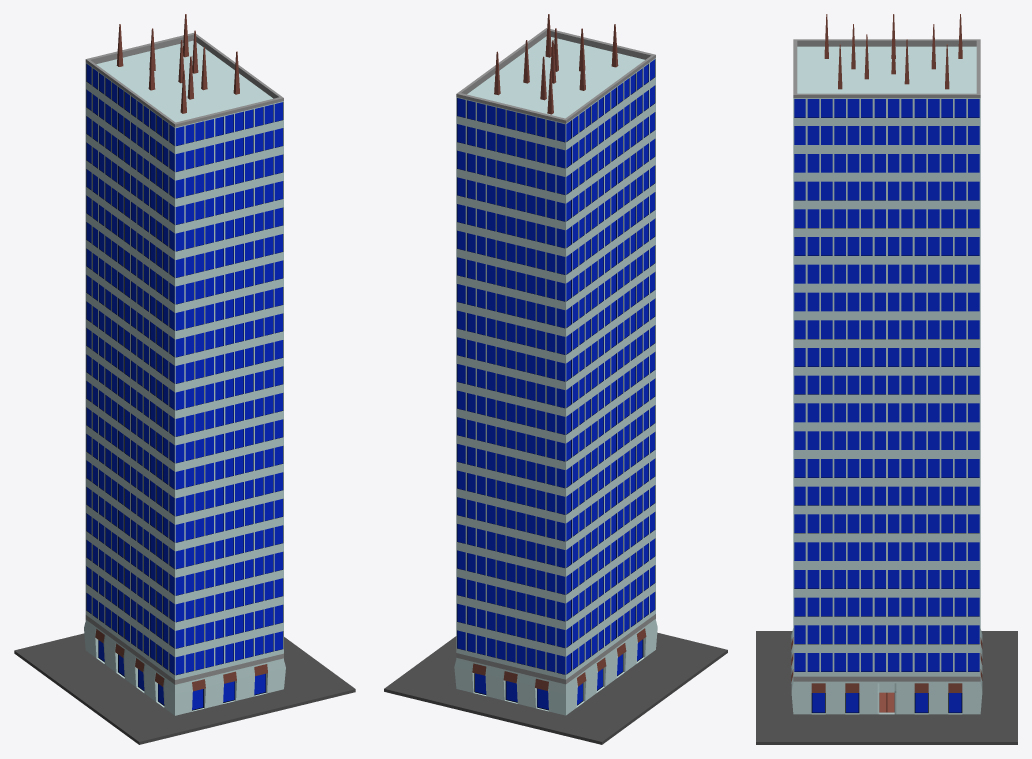
Rendered from Immeuble2_2.glb.
3 renders of one model, left to right at view 1: azimuth 30°, elevation 25°; view 2: azimuth 150°, elevation 25°; view 3: azimuth 270°, elevation 25°, orthographic. The views are drawn at different scales.
Visible parts, largest first — view 1: Immeuble2_2; view 2: Immeuble2_2; view 3: Immeuble2_2.
Part boxes in pixels (bbox=[...]): Immeuble2_2: bbox=[14, 14, 355, 744]; Immeuble2_2: bbox=[384, 14, 727, 744]; Immeuble2_2: bbox=[756, 14, 1017, 744].
Size of the model in its own units: 25 by 69.51 by 25.
